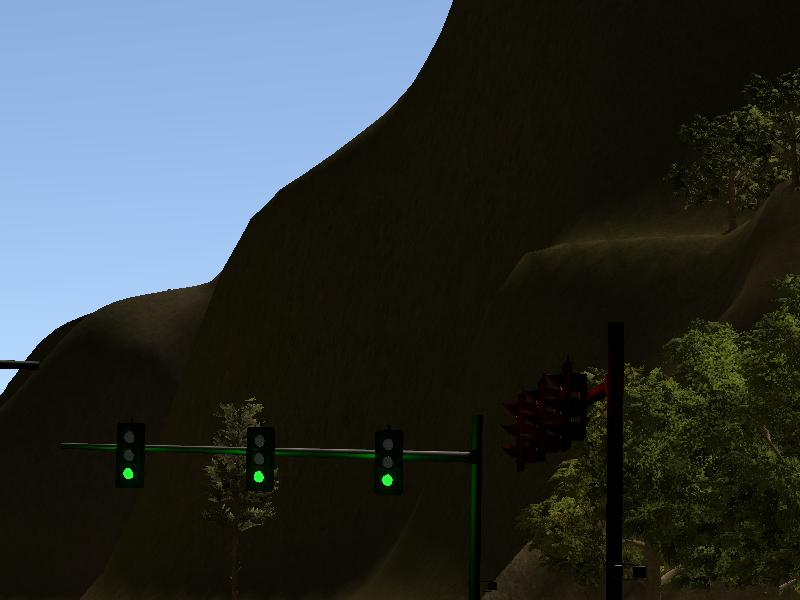Green: (374, 431, 402, 494), (115, 424, 143, 486), (248, 427, 272, 492)
